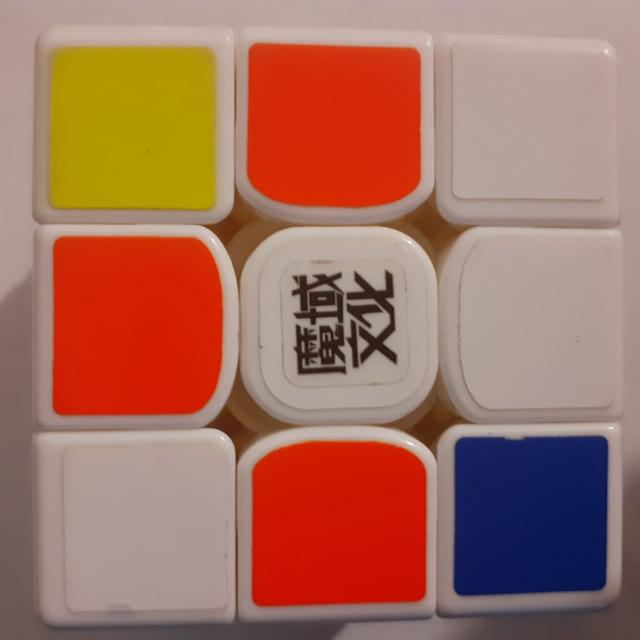Blue: (446, 433, 624, 609)
Orange: (42, 230, 232, 422), (243, 29, 432, 218), (244, 438, 436, 618)
White: (41, 436, 235, 620), (247, 230, 433, 414), (448, 233, 618, 422), (439, 35, 615, 217)
Yellow: (31, 29, 232, 221)
